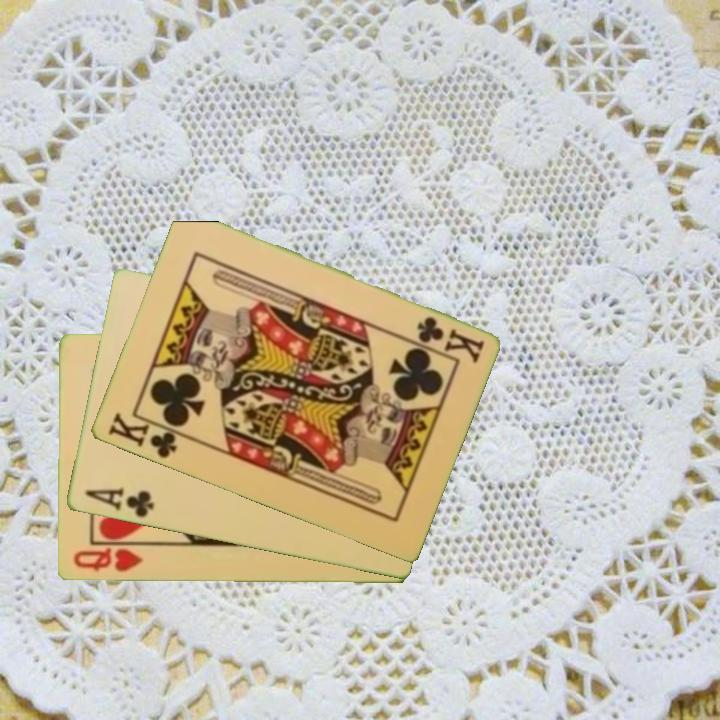Ac: (80, 483, 157, 521)
Kc: (104, 409, 188, 462), (412, 313, 487, 364)
Qh: (70, 545, 145, 575)
